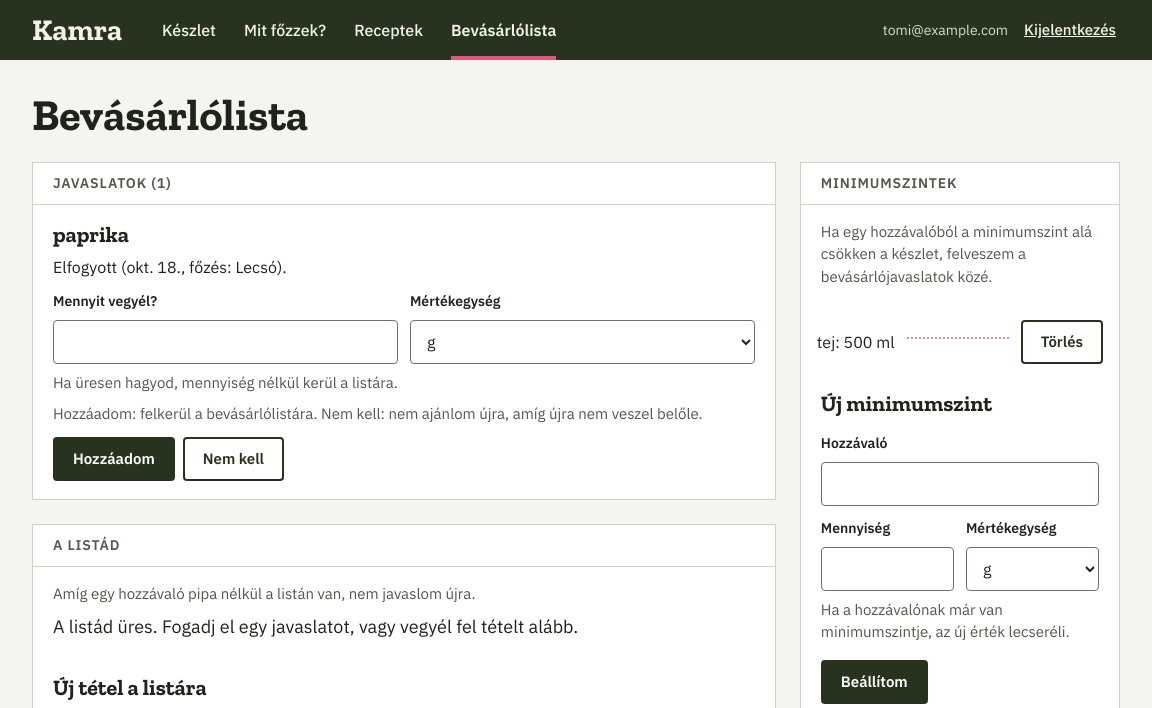
Test: shopping suggestions › explains a depleted suggestion and accepts it without an amount
Expected: the element "paprika" shows "Elfogyott (okt. 18., főzés: Lecsó).", [53, 257, 287, 277]
Expected: the number field labelled "Mennyit vegyél?" is empty, [53, 320, 398, 364]
Click the button "Hozzáadom" at (114, 459), box [53, 437, 175, 481]
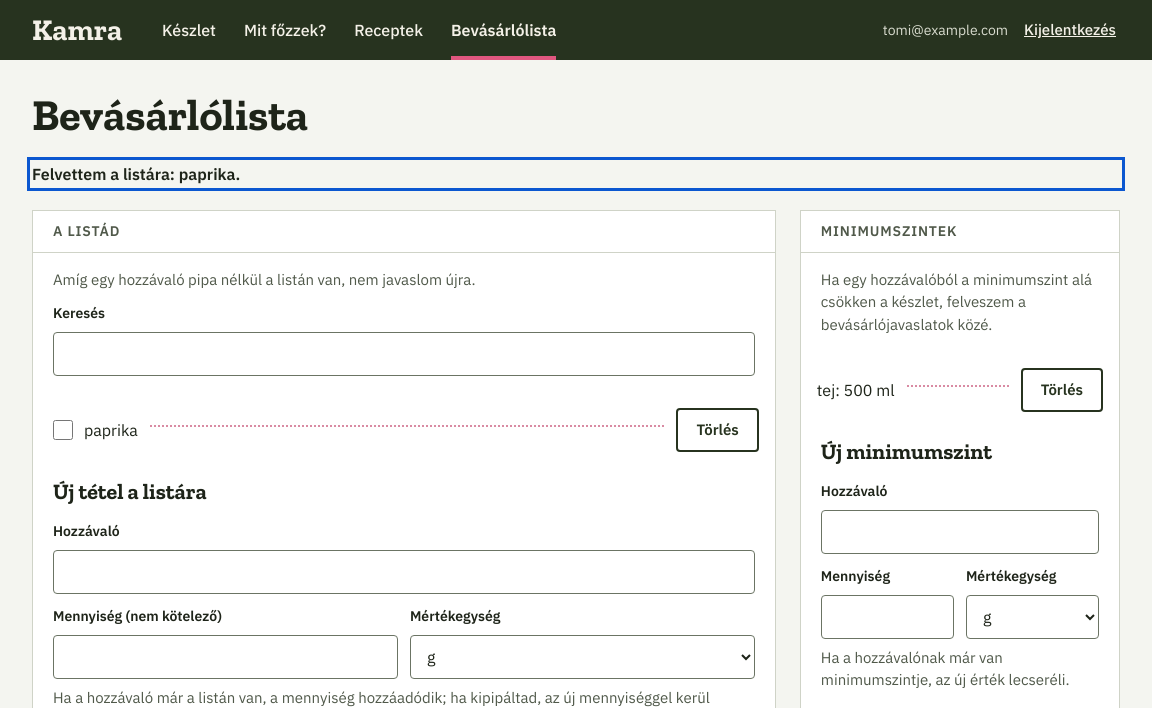
Expected: the text "Felvettem a listára: paprika." is shown, [32, 164, 240, 184]
Expected: the checkbox labelled "paprika" is shown, [53, 420, 73, 440]
